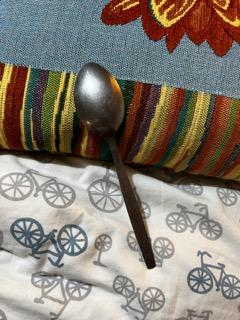spoon: (72, 61, 159, 272)
